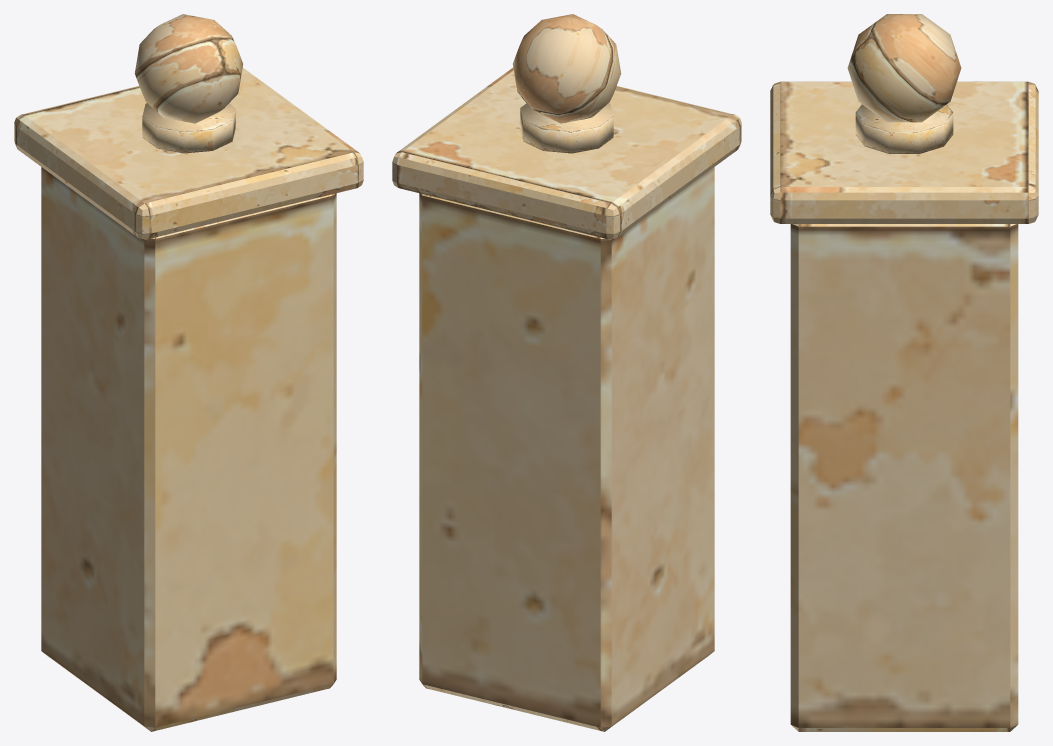
3 renders of one model, left to right at view 1: azimuth 30°, elevation 25°; view 2: azimuth 150°, elevation 25°; view 3: azimuth 270°, elevation 25°, orthographic. The views are drawn at different scales.
Parts seen in each view (by area): view 1: seaside_stone; view 2: seaside_stone; view 3: seaside_stone.
Boxes of the visible parts, x1,y1,x2,y2 form: seaside_stone: (14,14,363,731); seaside_stone: (392,14,741,731); seaside_stone: (770,14,1038,731).
Size of the model in its own units: 0.66 by 1.82 by 0.66.
Materials: 1 (1 with a texture image).
